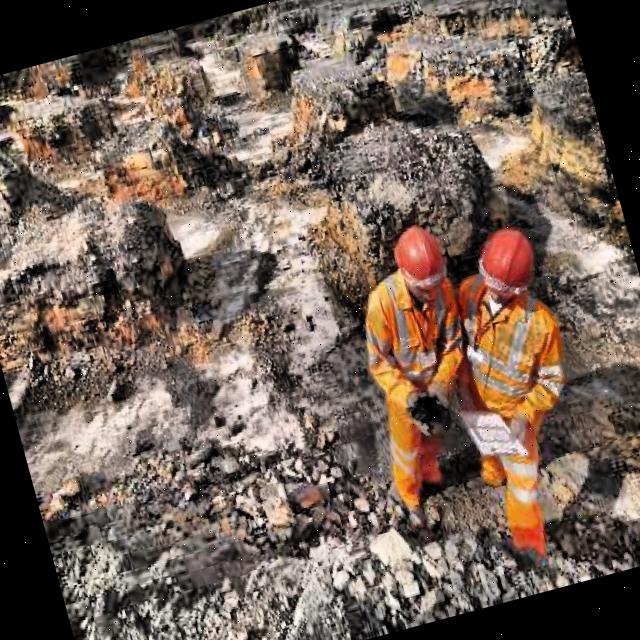helmet: (468, 220, 548, 308), (386, 218, 454, 302)
